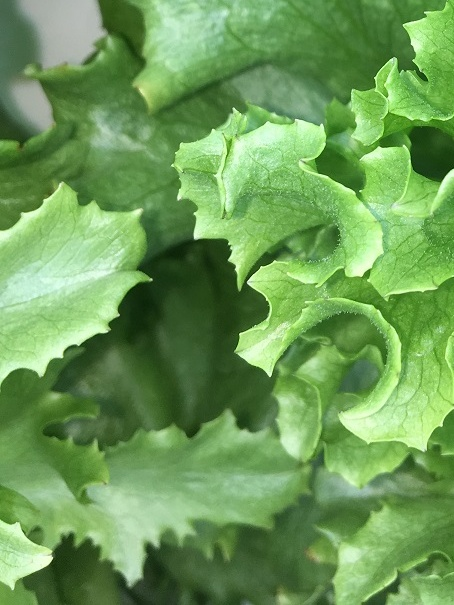tipburn: (296, 540, 323, 567), (268, 581, 292, 604), (127, 78, 148, 96), (13, 137, 31, 156), (295, 153, 314, 171), (227, 128, 245, 145), (98, 475, 115, 492), (173, 189, 190, 206), (59, 57, 75, 71)
